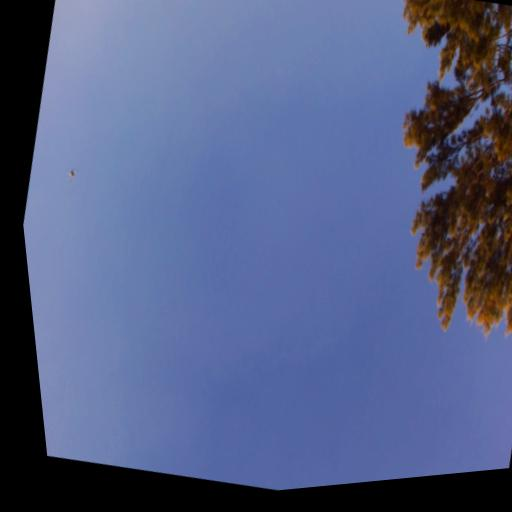drones: (64, 164, 82, 186)
